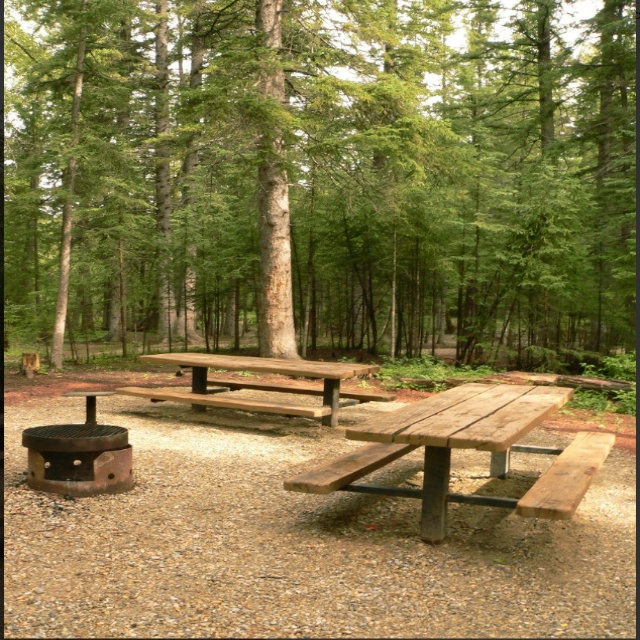obstacle: (283, 377, 616, 549), (116, 350, 342, 429)
